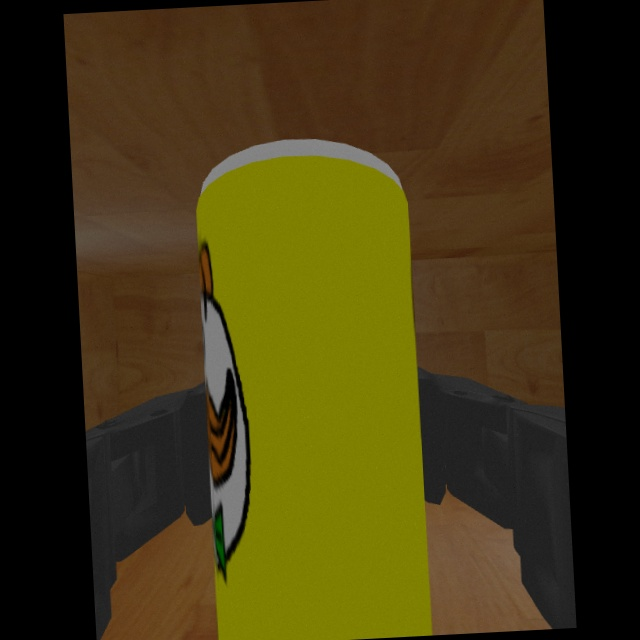chipsdose_gelb: (195, 138, 433, 640)
